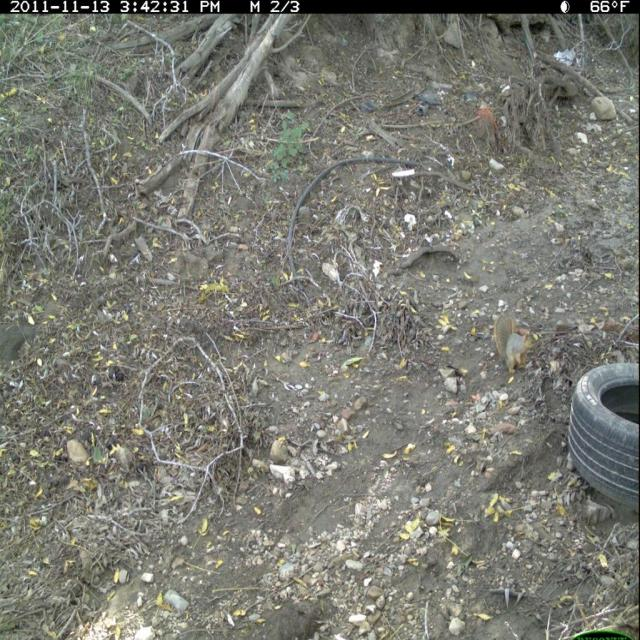squirrel: (475, 303, 547, 395)
